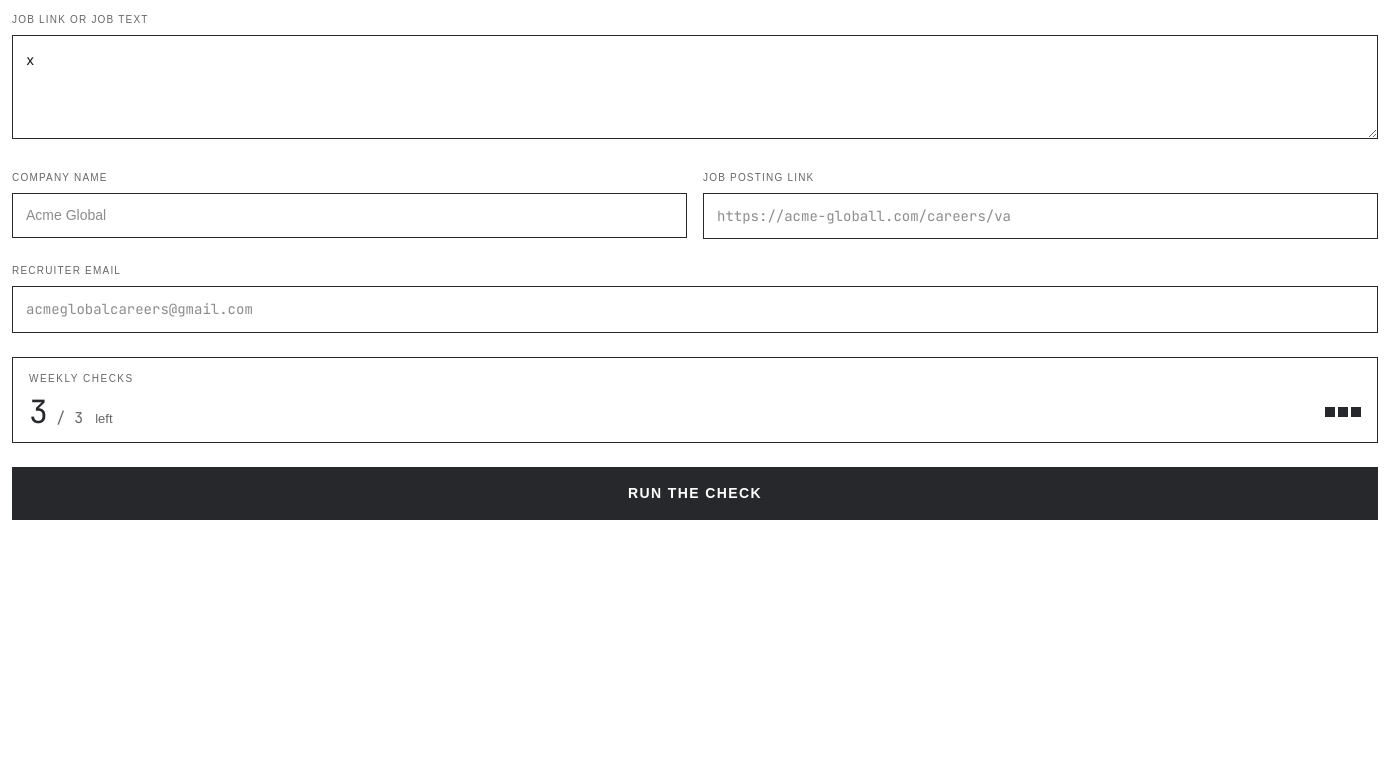
Test: NewCheckForm › shows an insert error on the form
The width and height of the screenshot is (1390, 780).
Click the button "RUN THE CHECK": x=695, y=493 [13,468,1377,519]
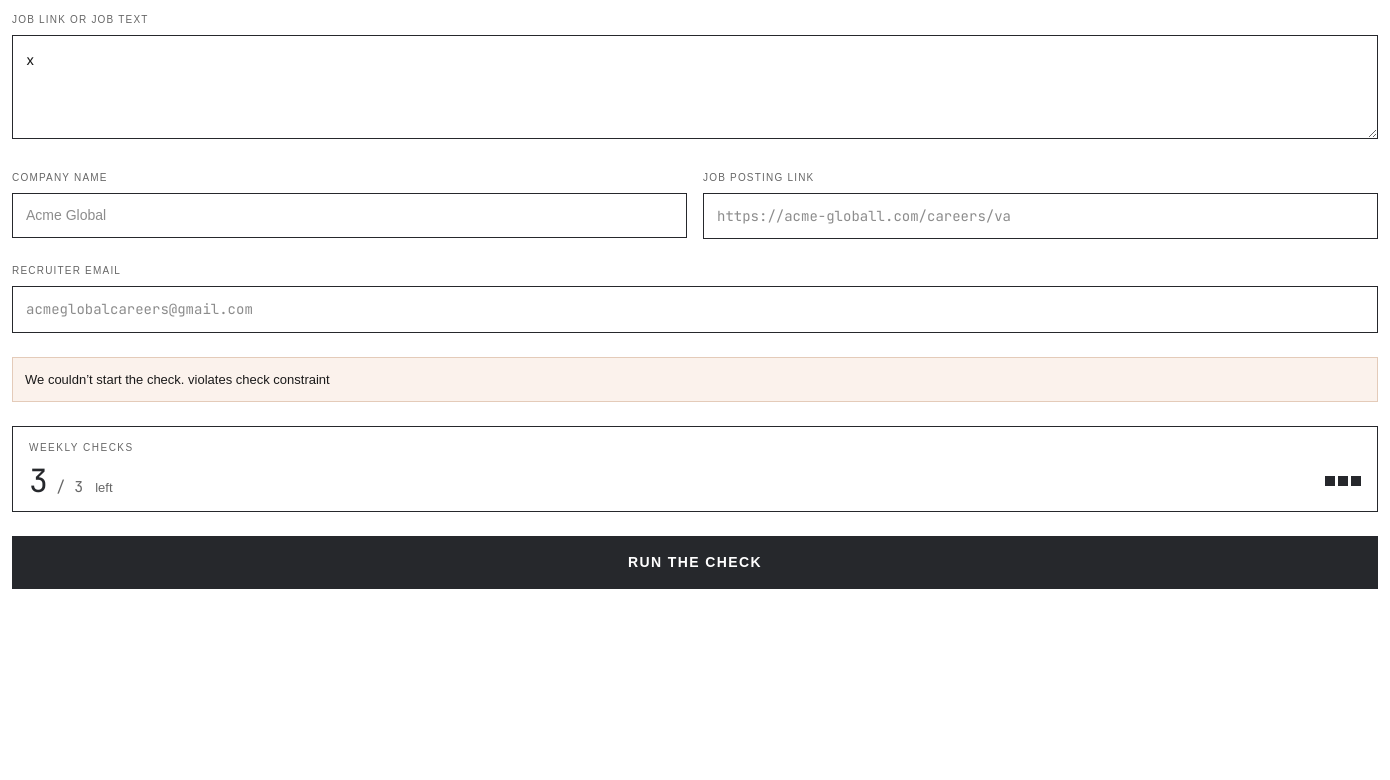
Check: the text "We couldn’t start the check. violates check constraint" is shown, box [25,372,330,387]
